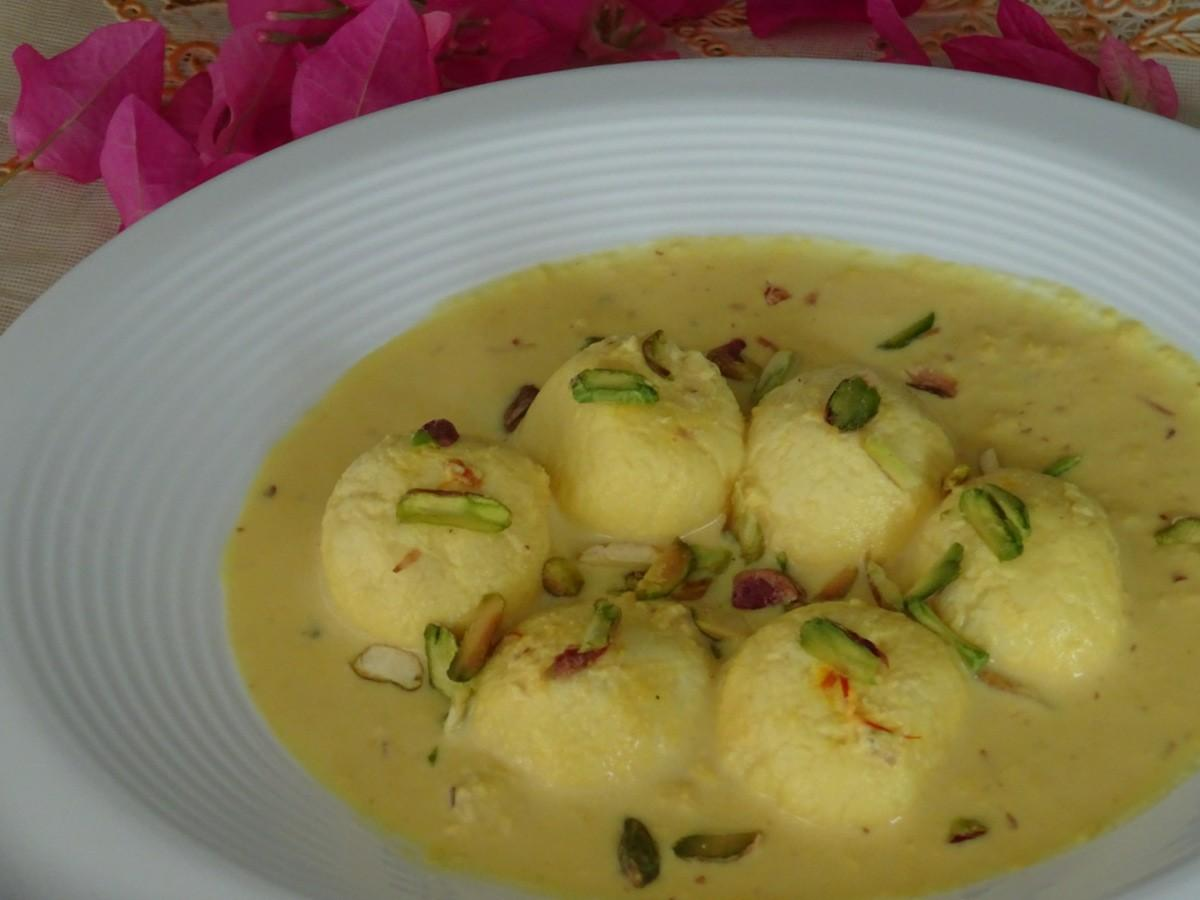RasMalai: (225, 240, 1200, 900)
